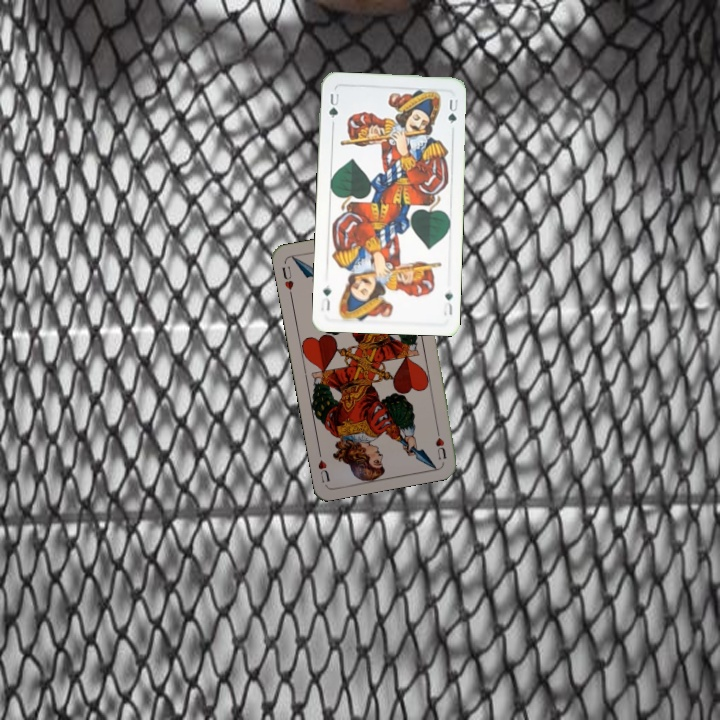GU: (325, 88, 342, 121), (439, 288, 455, 318)
HU: (431, 423, 449, 462), (278, 262, 296, 299)
